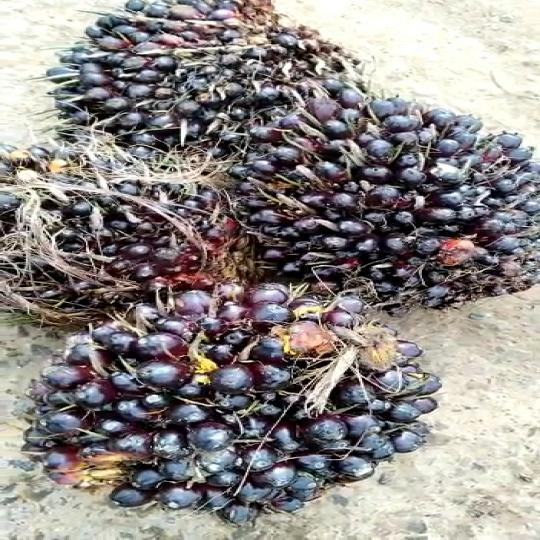mentah: (23, 276, 434, 532), (186, 83, 540, 319), (0, 125, 270, 320), (58, 0, 359, 168)
